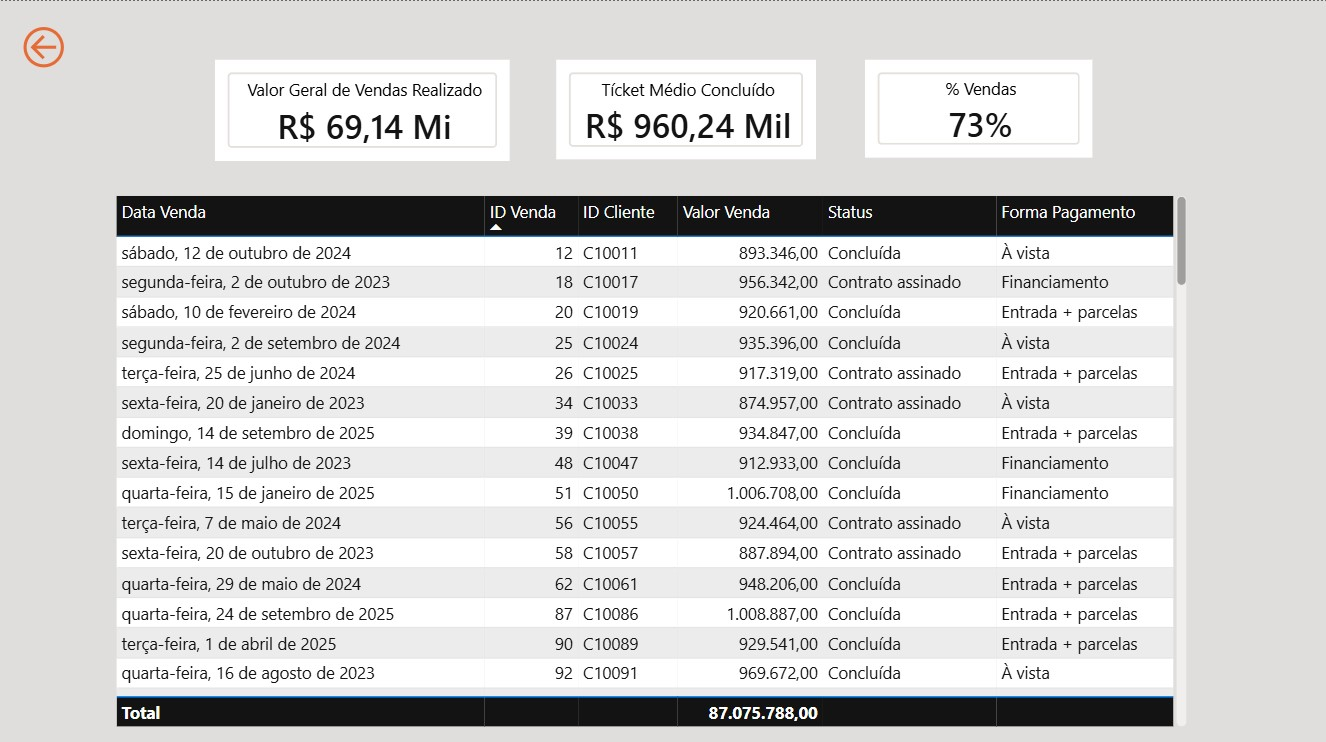

This screenshot's page, from the dashboard's own definition file:
{"tool":"powerbi","page":{"name":"Detalhe do Empreendimento","canvas":[1280,720],"ordinal":5},"visuals":[{"type":"actionButton","box":[16.8,19.5,53.2,50.5],"z":0},{"type":"tableEx","fields":{"Values":["vendas.data_venda","vendas.venda_id","vendas.cliente_id","Sum(vendas.valor_venda)","vendas.status","vendas.forma_pagamento"]},"box":[106,182.7,1042.4,521.2],"z":1000},{"type":"cardVisual","fields":{"Data":["Medidas.VGV_Realizado"]},"box":[202.6,51.4,294.3,107.8],"z":2000},{"type":"cardVisual","fields":{"Data":["Medidas.Ticket_Medio_Concluido"]},"box":[531.1,51.4,260,106.8],"z":3000},{"type":"cardVisual","fields":{"Data":["Medidas.% Vendas"]},"box":[829.5,51.4,229.8,104.8],"z":4000}]}

Visuals, with their boxes in screenshot pixels (x1, y1, x2, y2), scaled from the page's 1280x720 canvas onto the 1326x742 screenshot:
actionButton: 17/20/73/72
tableEx - vendas.data_venda x vendas.venda_id: 110/188/1190/725
cardVisual - Medidas.VGV_Realizado: 210/53/515/164
cardVisual - Medidas.Ticket_Medio_Concluido: 550/53/820/163
cardVisual - Medidas.% Vendas: 859/53/1097/161
